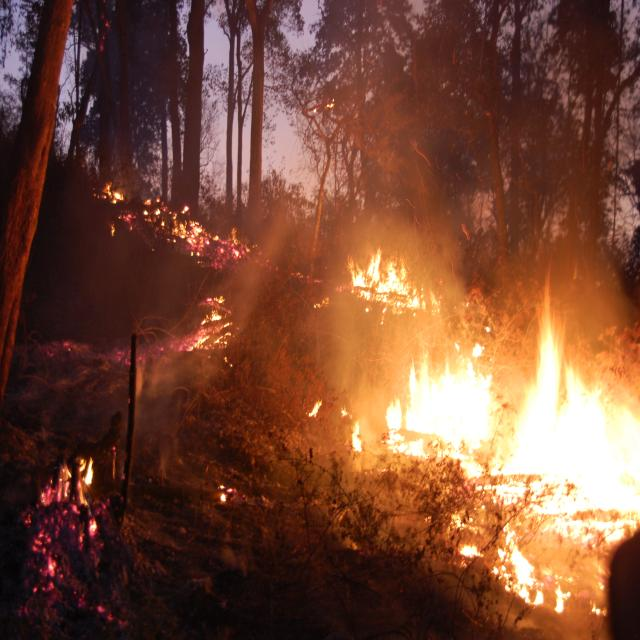Fire: (396, 317, 628, 609), (103, 156, 254, 280), (32, 461, 112, 596), (347, 244, 429, 330), (157, 300, 239, 351)
